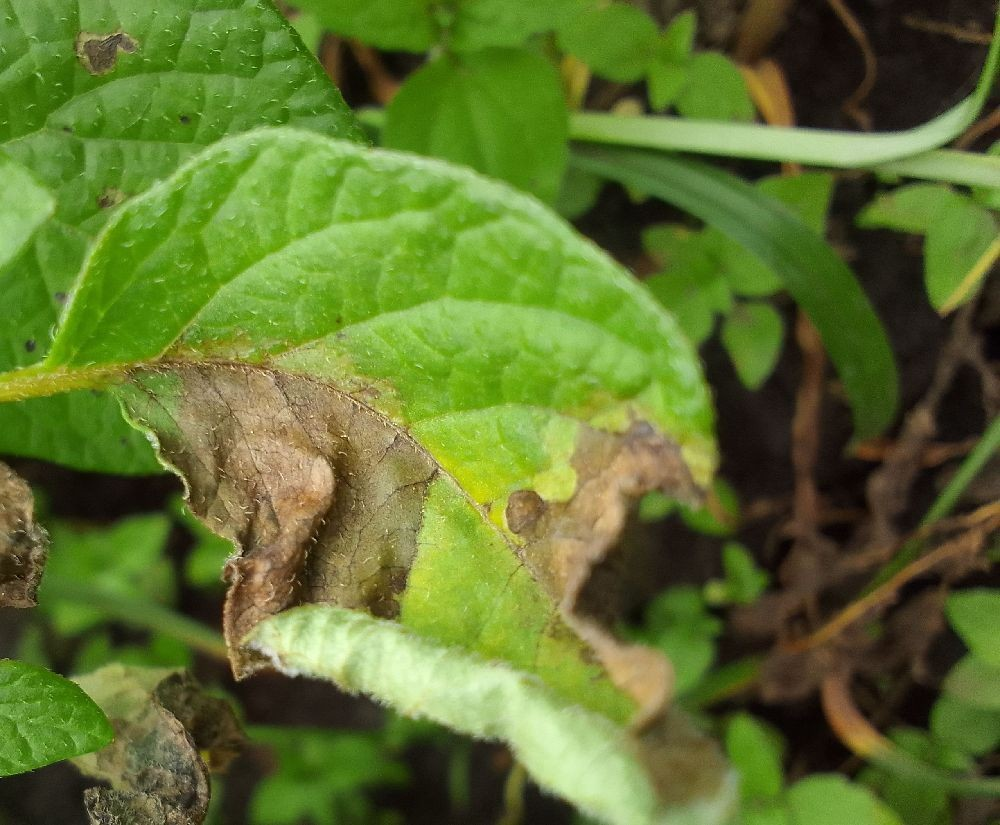late_blight: (464, 232, 999, 824), (0, 291, 498, 825), (585, 0, 837, 152), (791, 0, 1000, 177)
